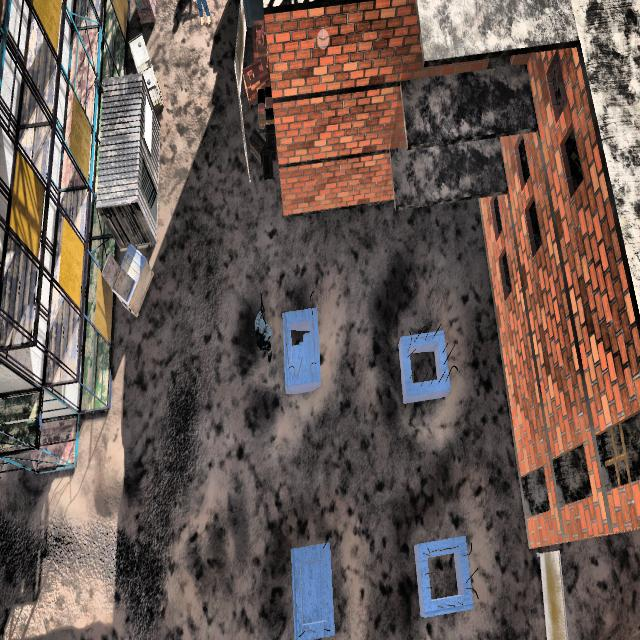bad: (245, 302, 276, 369)
good: (187, 0, 223, 33)
